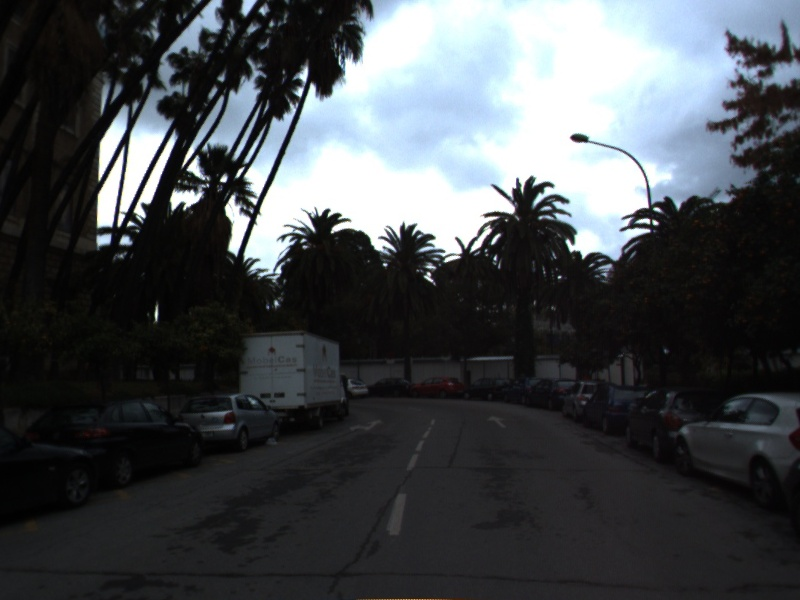STRAIGHT: (485, 414, 508, 429)
STRAIGHT_LEFT: (347, 417, 386, 433)
